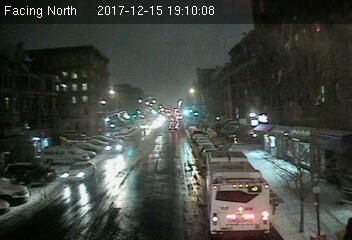bus: (204, 152, 273, 236)
car: (60, 160, 95, 180), (104, 138, 126, 153)
